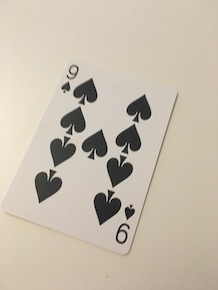NineOfSpades: (2, 55, 179, 256)
